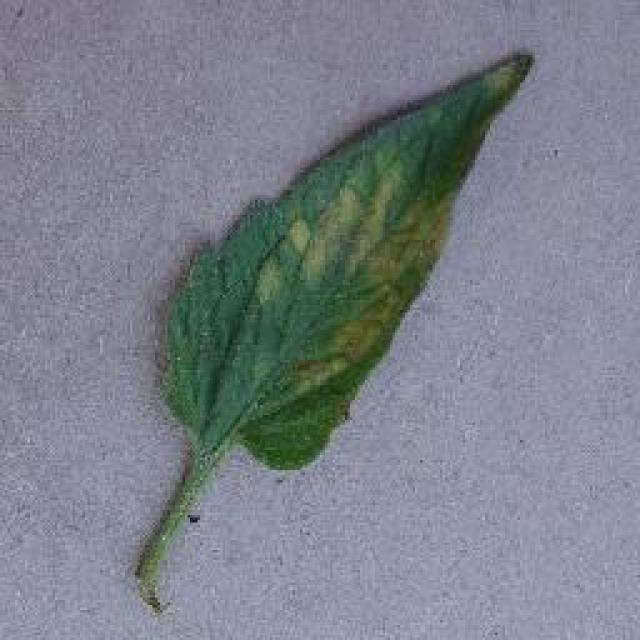Tom_Leaf_Mold: (252, 164, 458, 366)
